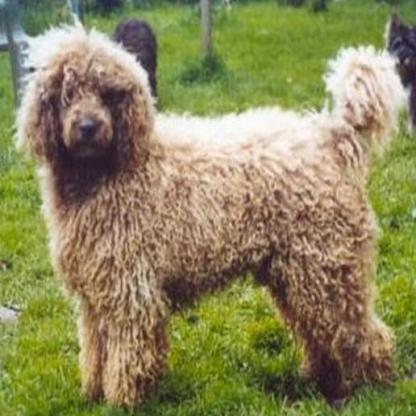miniature_poodle: (10, 14, 404, 408)
